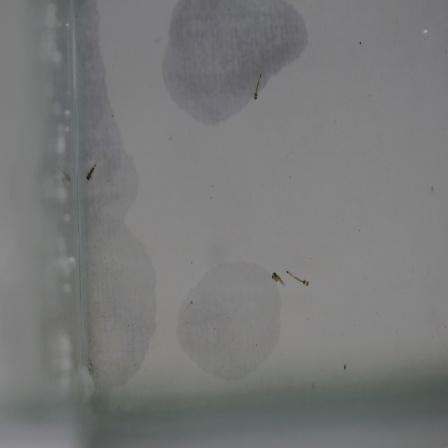Jentik-Nyamuk: (268, 266, 317, 294), (250, 69, 267, 103), (84, 159, 101, 184)
